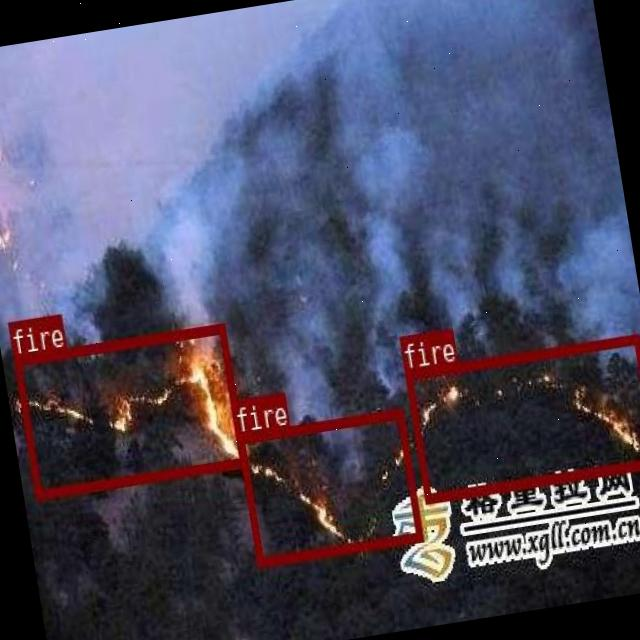fire: (13, 322, 246, 499), (404, 332, 640, 500), (236, 406, 422, 566)
